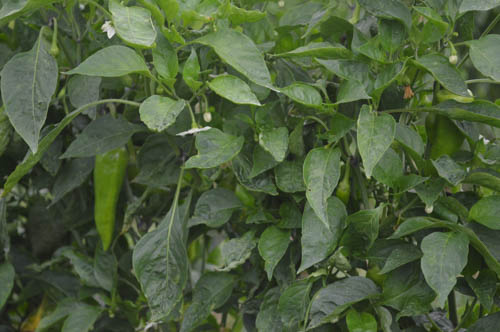ChiliPepper: (90, 145, 129, 251)
